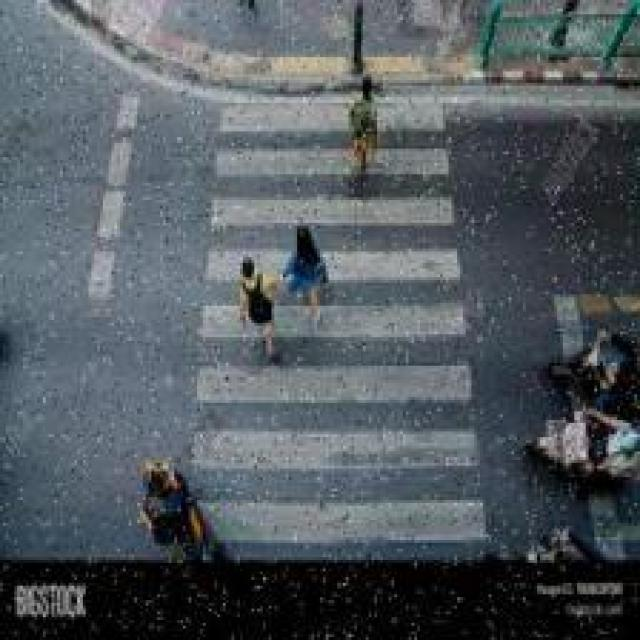walk-crossing: (178, 94, 478, 567)
